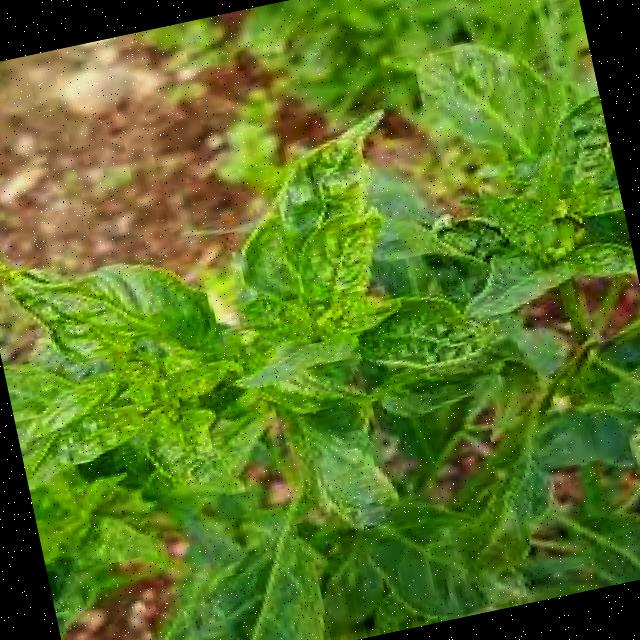leaf curl: (0, 97, 471, 536)
